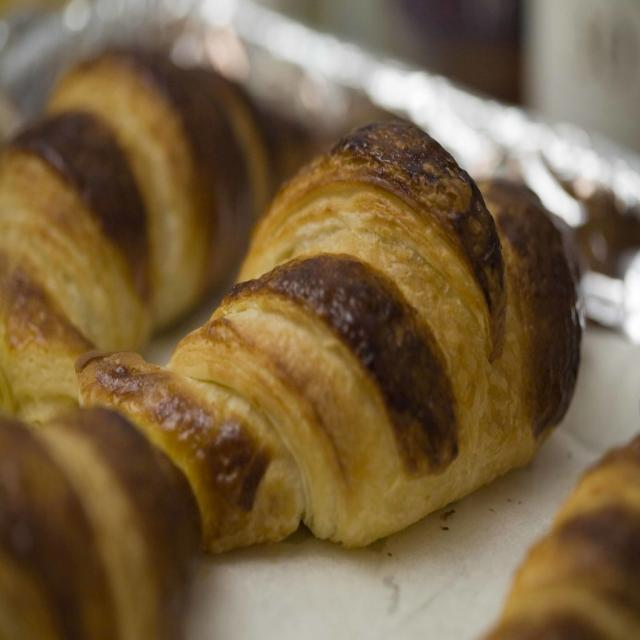Croissant: (77, 115, 579, 556), (0, 48, 321, 420), (0, 411, 206, 639), (484, 433, 640, 639)
